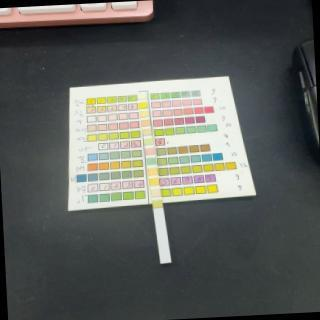mark: (146, 148, 156, 156), (150, 189, 160, 197), (152, 200, 162, 208), (142, 129, 152, 136), (147, 157, 155, 165), (148, 180, 158, 186), (147, 169, 157, 175), (144, 139, 154, 145), (140, 102, 148, 109), (140, 111, 149, 117), (142, 120, 150, 126), (138, 94, 146, 100)
